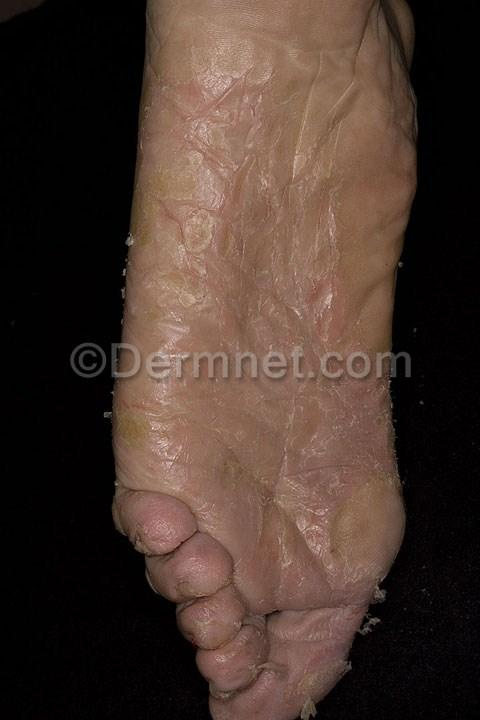Eczema: (125, 162, 319, 451), (158, 441, 304, 629), (155, 0, 329, 155), (313, 0, 438, 159), (323, 153, 412, 362), (308, 362, 425, 513), (316, 514, 389, 618)
